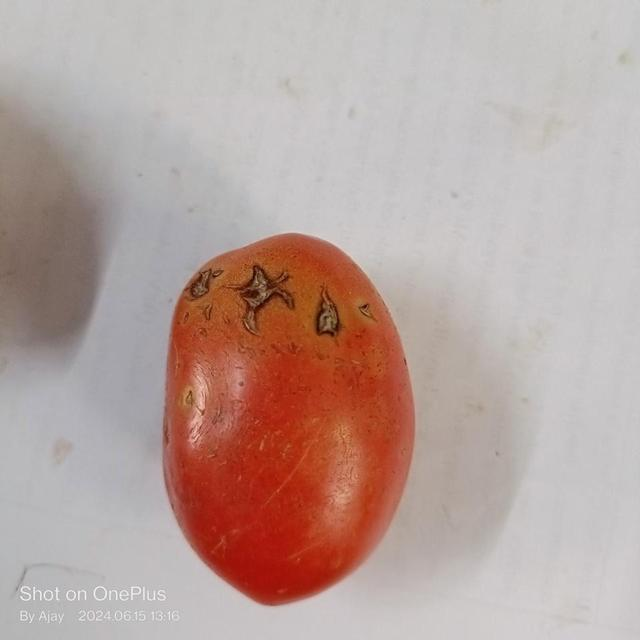Bacterial Spot Fruit: (18, 26, 219, 208)
